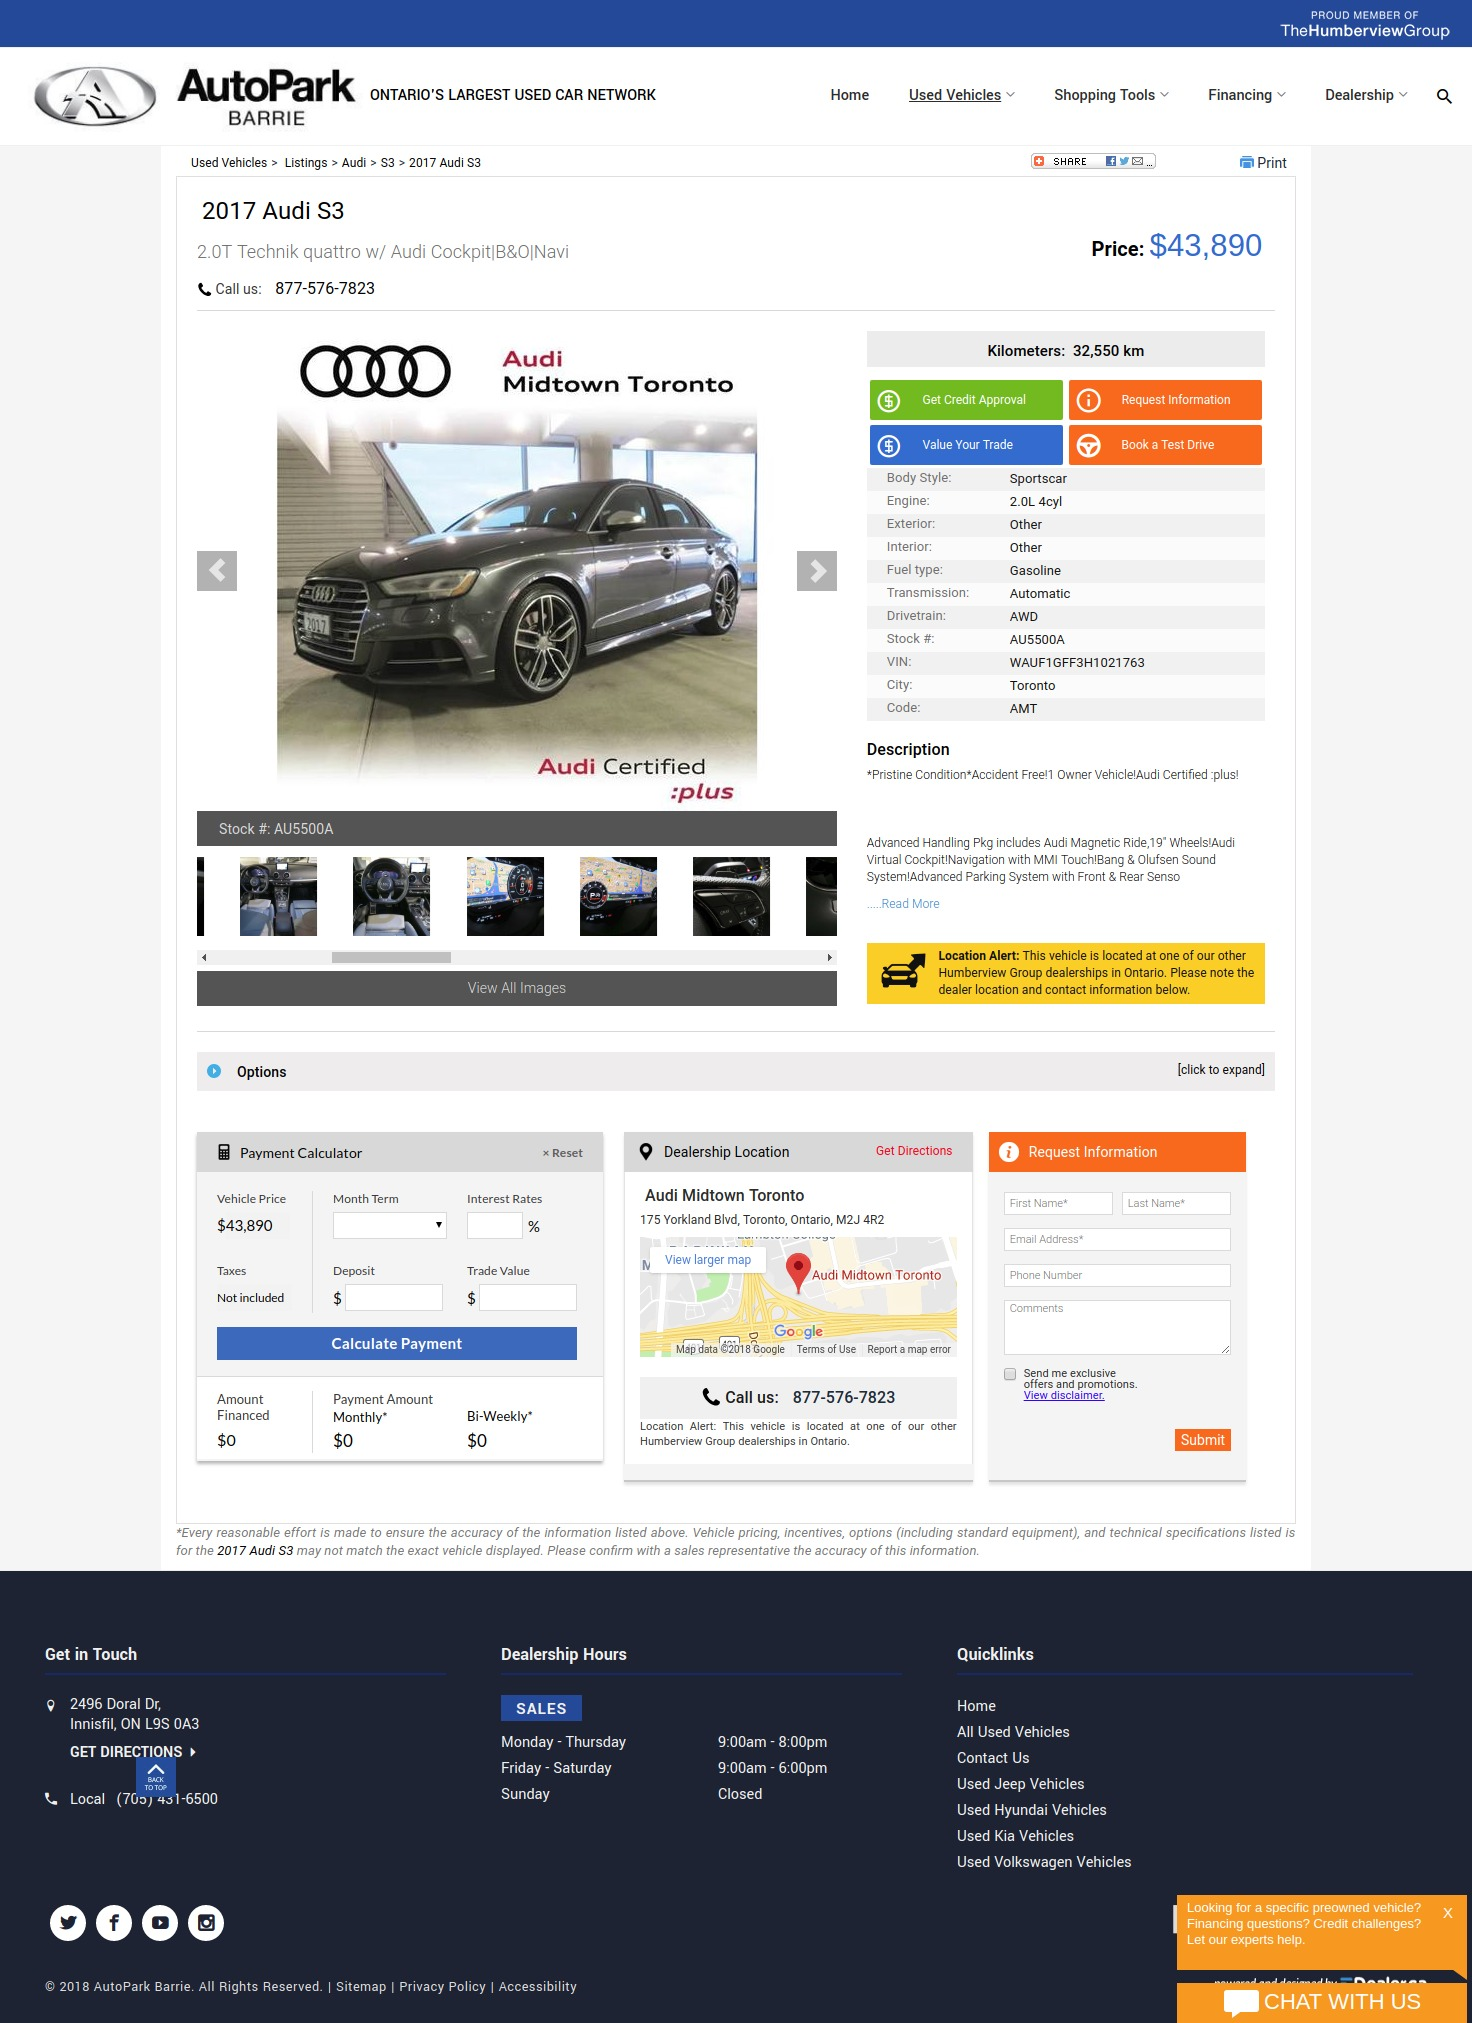car: (826, 953, 833, 963)
